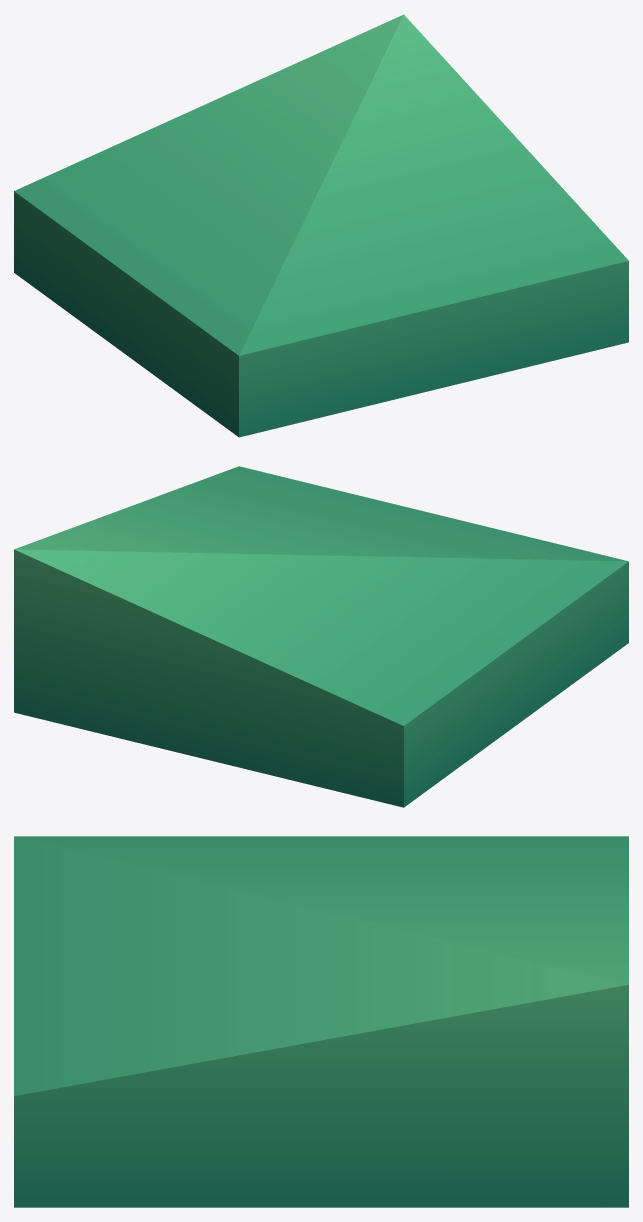
File: kenney-tower-defense-tile-corner-outer.glb
3 views of the same model, one above another, from view 1: azimuth 30°, elevation 25°; view 2: azimuth 150°, elevation 25°; view 3: azimuth 270°, elevation 25° (orthographic). The views are drawn at different scales.
Visible parts, largest first — view 1: tile-corner-outer; view 2: tile-corner-outer; view 3: tile-corner-outer.
Part boxes in pixels (x1,y1,x2,y2): tile-corner-outer: (14,14,628,437); tile-corner-outer: (14,466,628,807); tile-corner-outer: (14,836,628,1207).
Bounding box in the file's own units: 1 × 0.3999 × 1.
Materials: 1 (1 with a texture image).
